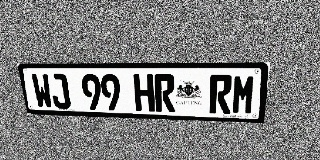9: (100, 74, 122, 111), (81, 74, 103, 110)
H: (133, 74, 155, 112)
J: (48, 74, 71, 109)
M: (231, 75, 257, 115)
R: (209, 74, 233, 114), (154, 74, 175, 112)
W: (31, 74, 54, 108)
